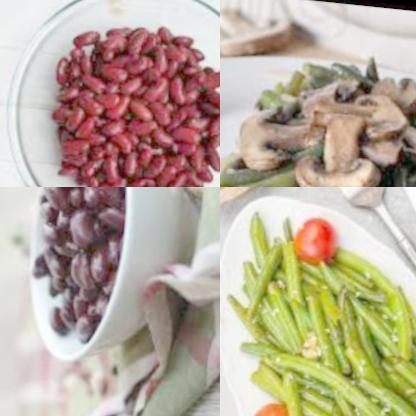fasol: (222, 219, 416, 416), (49, 3, 220, 187), (15, 187, 133, 326), (220, 134, 361, 187), (350, 104, 416, 187)
tomato: (287, 204, 348, 271), (243, 389, 311, 416)
